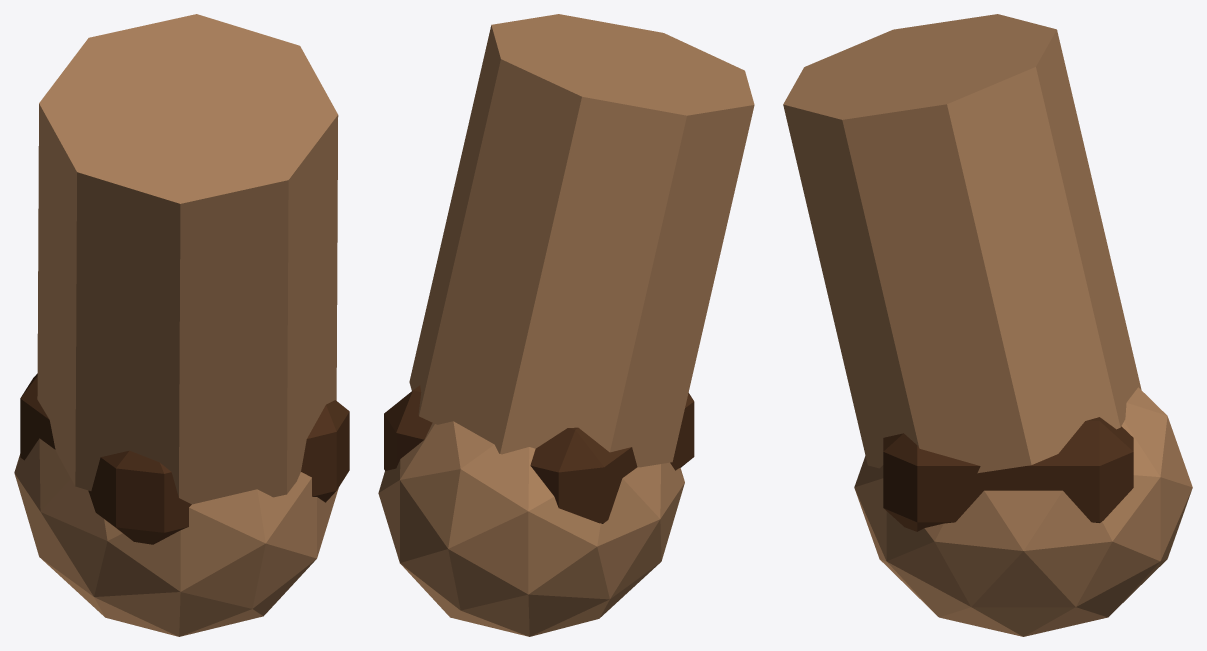
File: ForearmRight.glb
3 renders of one model, left to right at view 1: azimuth 30°, elevation 25°; view 2: azimuth 150°, elevation 25°; view 3: azimuth 270°, elevation 25°, orthographic. The views are drawn at different scales.
Parts seen in each view (by area): view 1: Sculpture; view 2: Sculpture; view 3: Sculpture.
Part boxes in pixels (bbox=[...]): Sculpture: bbox=[14, 14, 349, 636]; Sculpture: bbox=[378, 14, 754, 636]; Sculpture: bbox=[783, 14, 1192, 636].
Size of the model in its own units: 0.1786 by 0.3339 by 0.2178.
